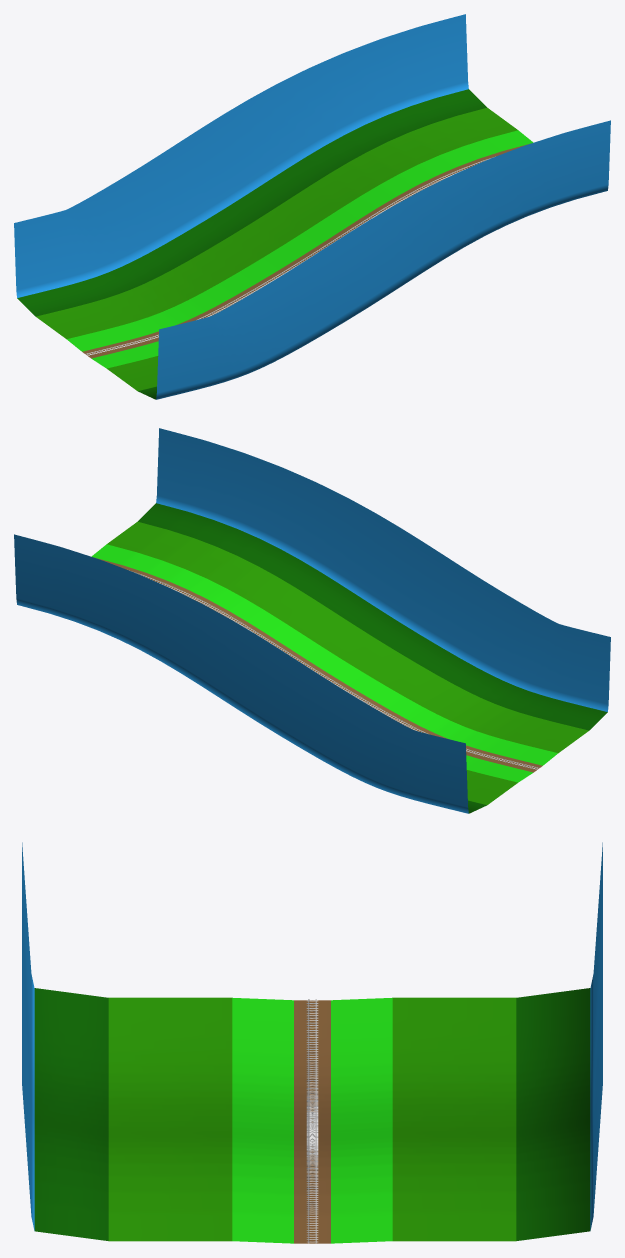
Rendered from Subida+1.fbx.
The picture shows the model from 3 angles, top to bottom: view 1: azimuth 30°, elevation 25°; view 2: azimuth 150°, elevation 25°; view 3: azimuth 270°, elevation 25°; orthographic projection. The views are drawn at different scales.
Parts seen in each view (by area): view 1: Subida+1.002; view 2: Subida+1.002; view 3: Subida+1.002.
Part boxes in pixels (left/top/right/bottom): Subida+1.002: left=14, top=14, right=610, bottom=399; Subida+1.002: left=14, top=428, right=610, bottom=813; Subida+1.002: left=22, top=842, right=602, bottom=1243.
Bounding box in the file's own units: 17970 × 6754 × 10000.
